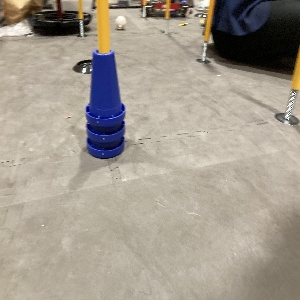Blue_3: (85, 49, 125, 158)
